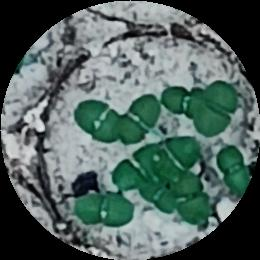Basil: (71, 188, 132, 229), (171, 172, 214, 226), (158, 83, 213, 124), (73, 99, 122, 143), (151, 135, 200, 178), (112, 145, 156, 191), (122, 94, 159, 145), (203, 83, 238, 136), (211, 149, 250, 190), (140, 181, 184, 211)
